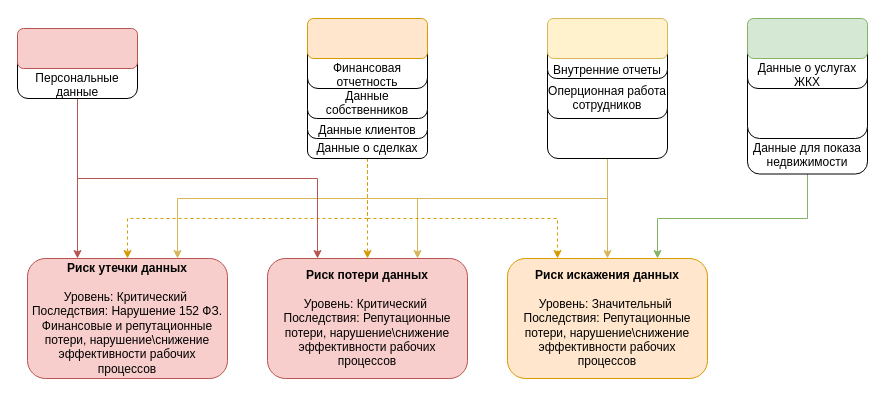
The diagram is 885 pixels wide and 396 high, and some of its shapes have lost their labels. Each missing label, with the centre of its shape:
Внутренние данные: [607,38]
Данные о недвижимости для клиентов: [807,98]
Инструкции и документация: [607,123]
Конфиденциальные данные: [367,38]
Публичные данные: [807,38]
Секретные данные: [77,48]
